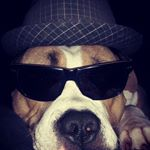puppy: (9, 47, 142, 150)
